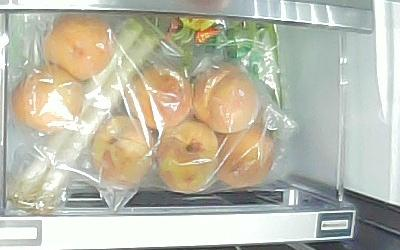peach_vinyl: (192, 63, 260, 132), (90, 114, 156, 185), (13, 65, 82, 130), (156, 121, 217, 191), (46, 16, 112, 79), (126, 67, 194, 128), (214, 126, 275, 187)
